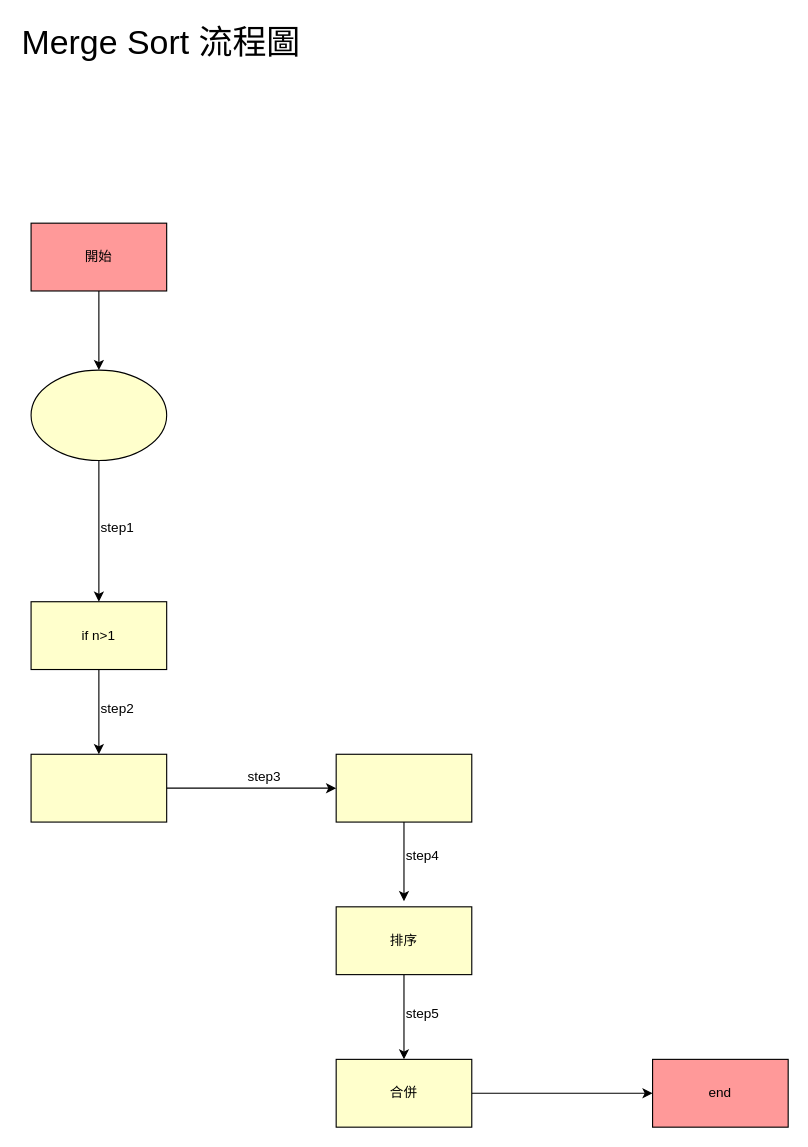
Some shapes in this 808 by 1147 pixel diagram are drawn without their labels. Here are the shapes that lost their labels. From the top down, the centre of each, then its label:
At [98,414]: "mergesort(array) n = len(array)".
At [98,787]: "拆分".
At [403,787]: "分割到n <= 1".
